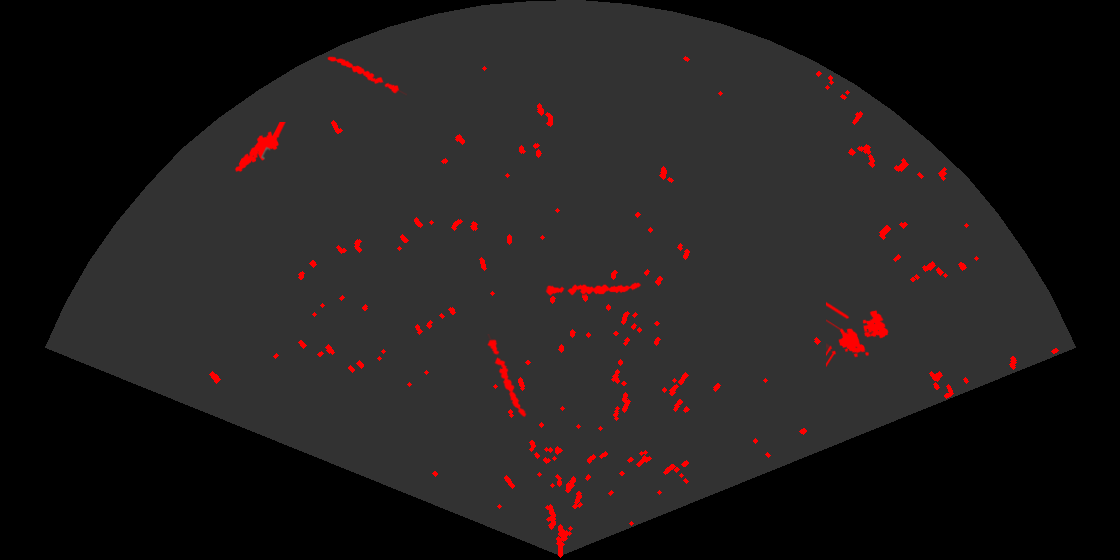cage: (826, 300, 890, 369)
chain: (486, 334, 528, 419), (326, 55, 407, 97), (545, 281, 642, 298)
frogman: (233, 122, 287, 174)
